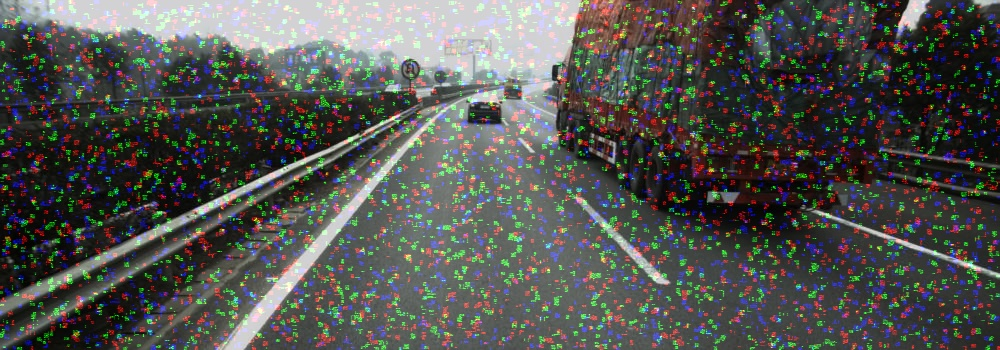Prohibitory Signs: (399, 57, 422, 82)
